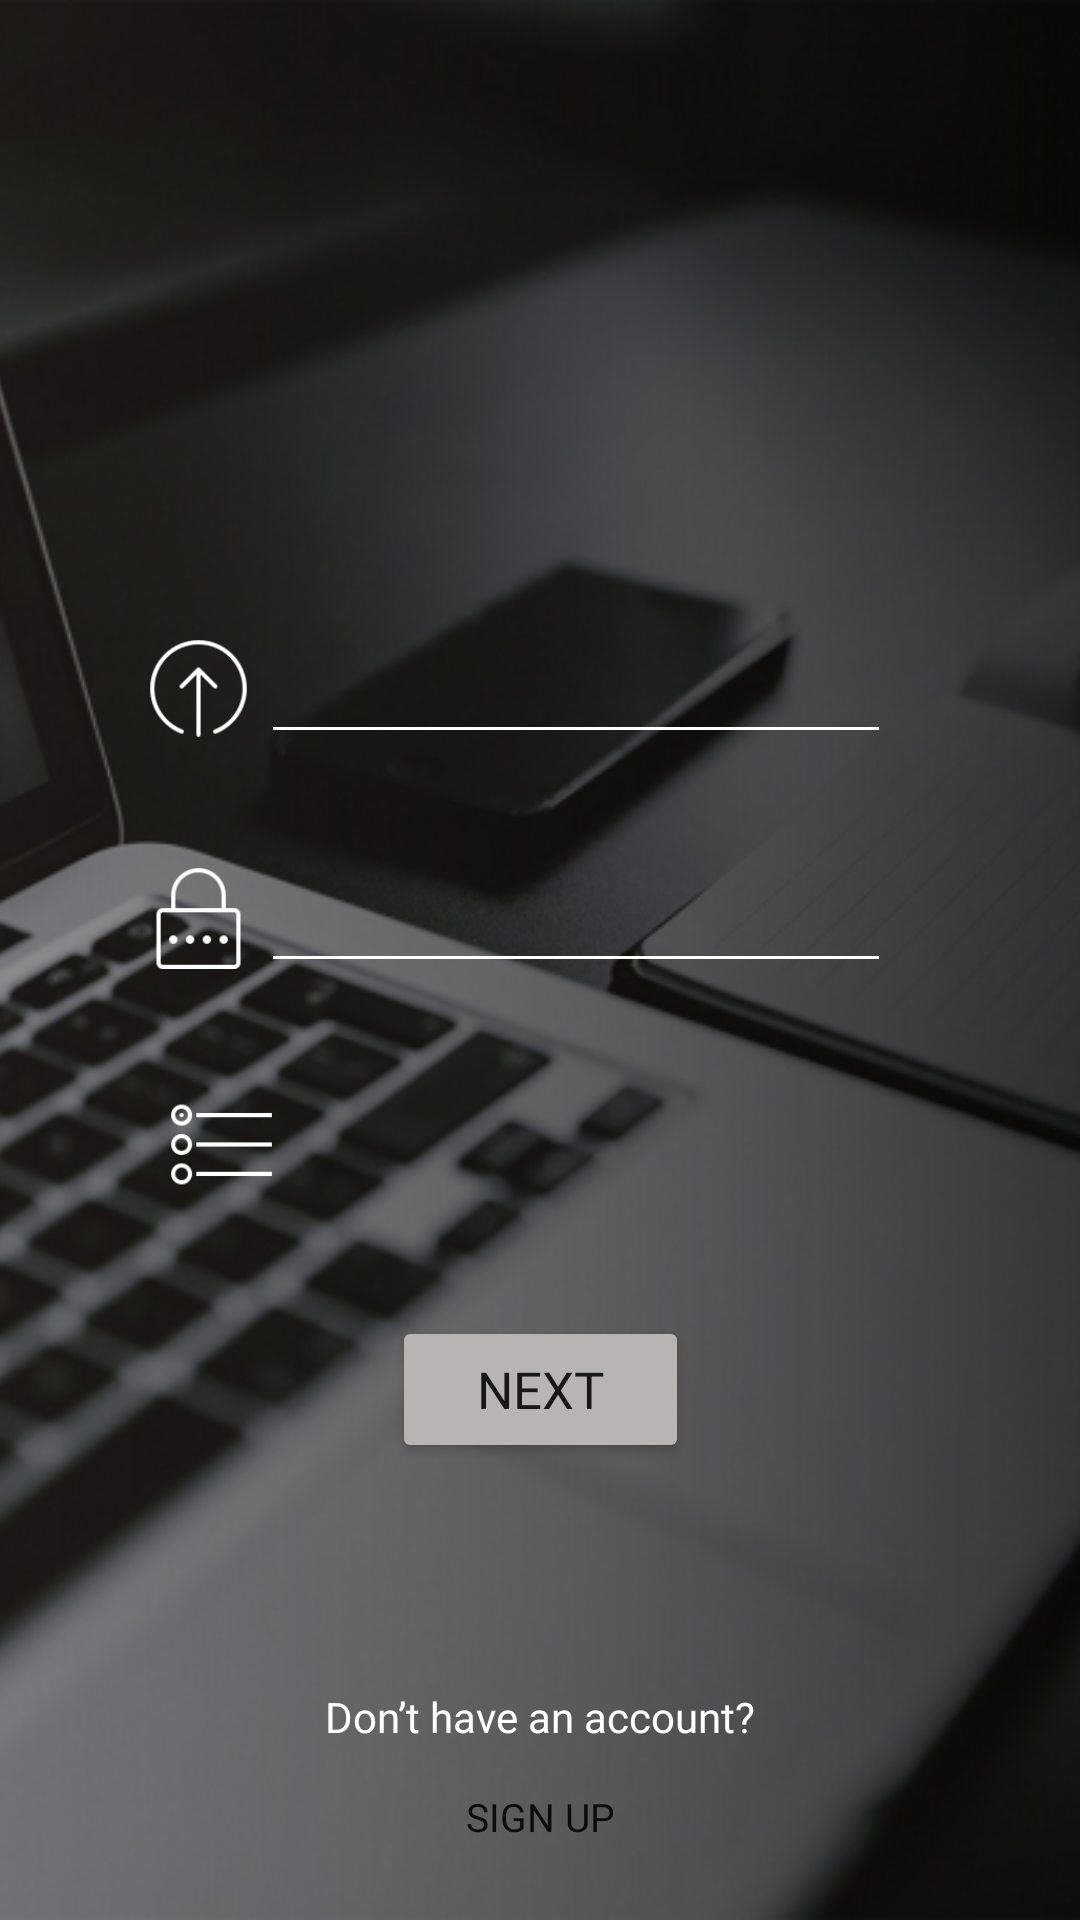

Where to tap for icons on this 1080w x 1920h app screen, as (x,y):
choose: (221,1144)
password: (198,916)
